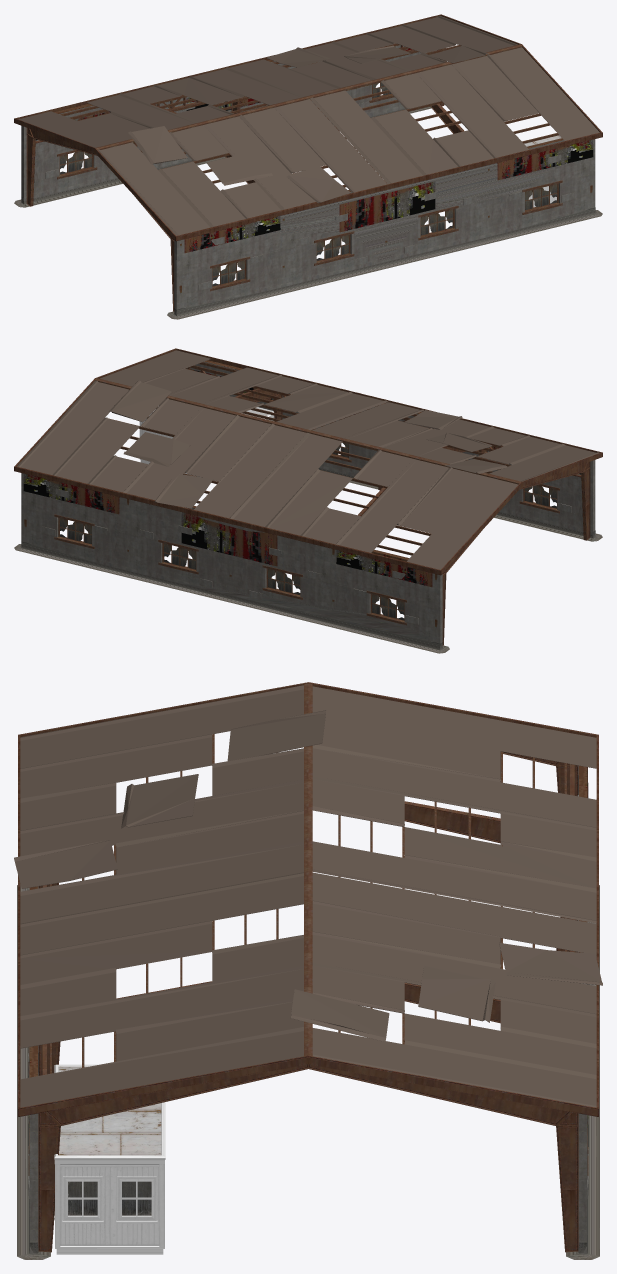
The model's file is warehouse-close.glb.
3 views of the same model, one above another, from view 1: azimuth 30°, elevation 25°; view 2: azimuth 150°, elevation 25°; view 3: azimuth 270°, elevation 25° (orthographic). The views are drawn at different scales.
Parts seen in each view (by area): view 1: warehouse_small_core_LOD0, warehouse_small_shell_LOD0; view 2: warehouse_small_core_LOD0, warehouse_small_shell_LOD0; view 3: warehouse_small_core_LOD0, portacabin_building_300_600_b_LOD0, warehouse_small_shell_LOD0.
Part boxes in pixels (box(x1,y1,x2,y2)): warehouse_small_core_LOD0: box(14, 14, 602, 311); warehouse_small_shell_LOD0: box(14, 43, 602, 319); warehouse_small_core_LOD0: box(14, 348, 602, 645); warehouse_small_shell_LOD0: box(14, 360, 602, 653); warehouse_small_core_LOD0: box(14, 682, 602, 1252); portacabin_building_300_600_b_LOD0: box(54, 1064, 165, 1254); warehouse_small_shell_LOD0: box(17, 765, 599, 1259).
Bounding box in the file's own units: 24.83 × 6.43 × 16.36.
13 materials, 13 textured.
